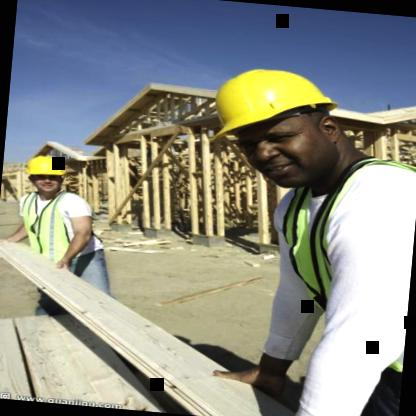helmet: (184, 45, 372, 201), (19, 148, 75, 204)
